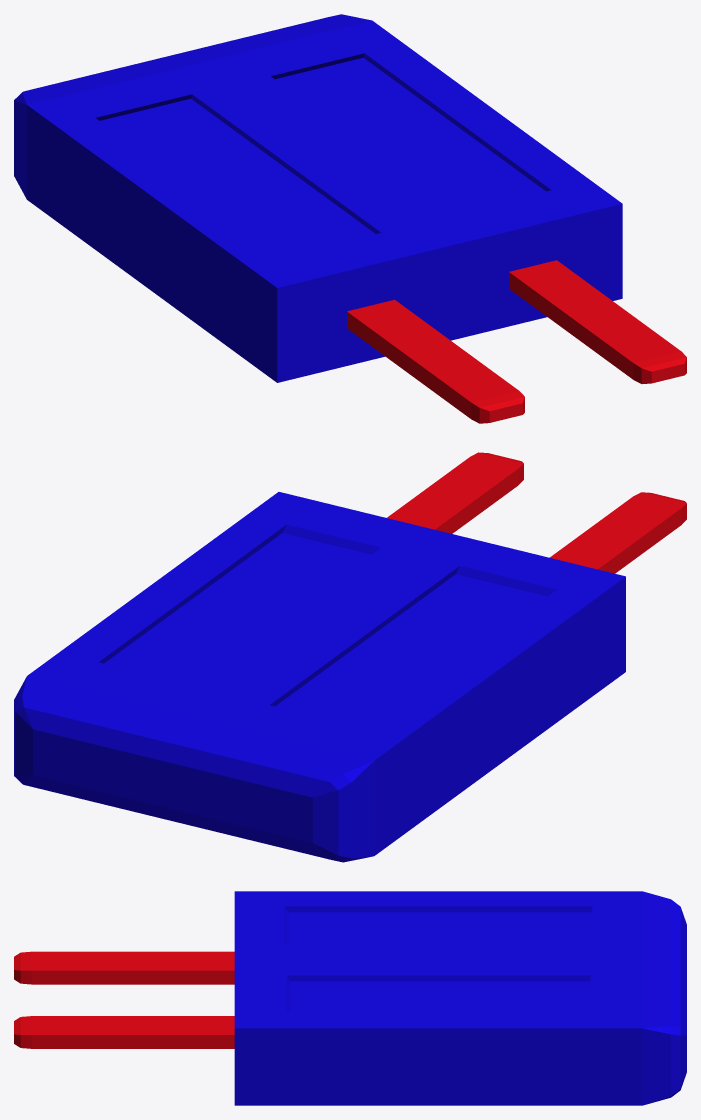
The model's file is popsicle.fbx.
3 views of the same model, one above another, from view 1: azimuth 30°, elevation 25°; view 2: azimuth 150°, elevation 25°; view 3: azimuth 270°, elevation 25° (orthographic). The views are drawn at different scales.
Visible parts, largest first — view 1: the part you eat; view 2: the part you eat; view 3: the part you eat.
Part boxes in pixels (x1,y1,x2,y2): the part you eat: (14,14,686,423); the part you eat: (14,452,686,862); the part you eat: (14,891,686,1105).
Bounding box in the file's own units: 0.1315 × 0.0346 × 0.2726.
